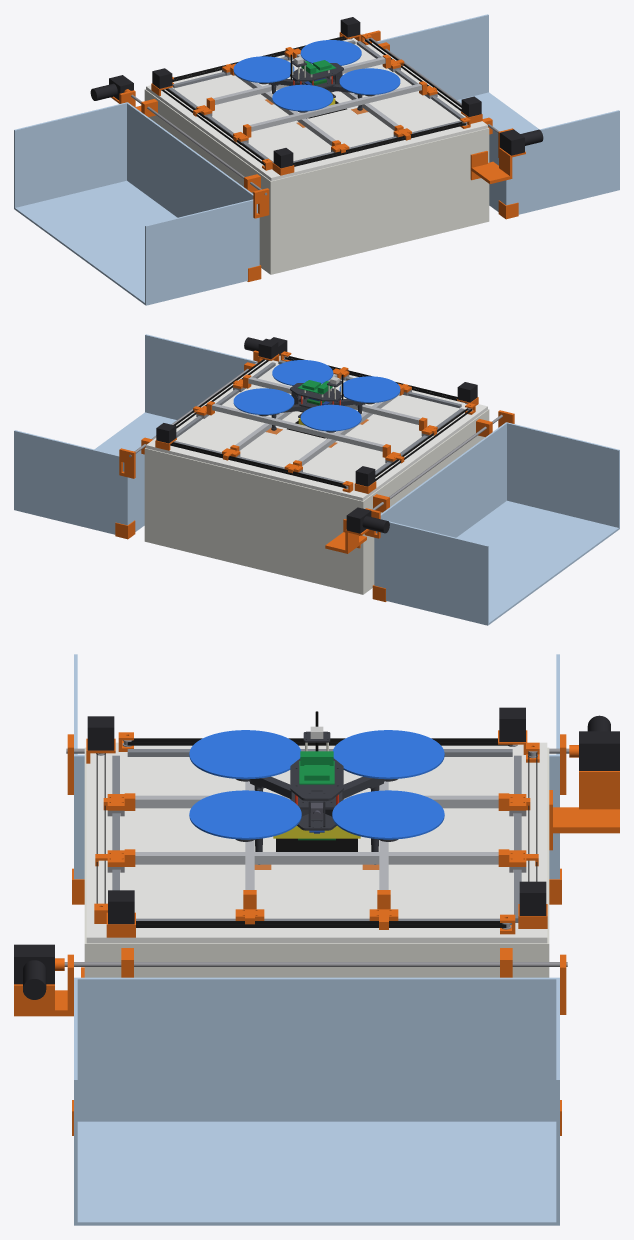
The model's file is dock_centering_with_drone.glb.
The picture shows the model from 3 angles, top to bottom: view 1: azimuth 30°, elevation 25°; view 2: azimuth 150°, elevation 25°; view 3: azimuth 270°, elevation 25°; orthographic projection. The views are drawn at different scales.
Parts seen in each view (by area): view 1: dockCOVER_L, dock_panels, dockCOVER_R, dock_deck, REF_prop_3, REF_prop_4, REF_prop_2, dock_bar_y-1, REF_prop_1, dock_motor_bracket_R, dock_bar_y+1, dockREF_cover_motor_R (+9 smaller); view 2: dockCOVER_L, dock_panels, dockCOVER_R, dock_deck, REF_prop_2, REF_prop_1, REF_prop_3, dock_bar_y+1, REF_prop_4, dock_bar_y-1, dockREF_cover_motor_L, dock_motor_bracket_L (+8 smaller); view 3: dockCOVER_R, dock_deck, dock_panels, dock_bar_x+1, REF_prop_1, REF_prop_4, REF_prop_2, REF_prop_3, dock_motor_bracket_L, dockCOVER_L, dock_shaft_R, dockREF_cover_motor_R (+16 smaller).
Boxes of the visible parts, x1,y1,x2,y2 form: dockCOVER_L: (14, 102, 259, 305); dock_panels: (144, 89, 489, 274); dockCOVER_R: (377, 14, 619, 214); dock_deck: (146, 33, 487, 180); REF_prop_3: (272, 84, 333, 111); REF_prop_4: (339, 68, 400, 94); REF_prop_2: (233, 56, 294, 82); dock_bar_y-1: (249, 83, 421, 131); REF_prop_1: (300, 40, 361, 65); dock_motor_bracket_R: (470, 147, 525, 183); dock_bar_y+1: (213, 57, 385, 104); dockREF_cover_motor_R: (500, 129, 543, 155); dockCOVER_L: (374, 422, 619, 625); dock_panels: (144, 409, 489, 594); dockCOVER_R: (14, 334, 256, 534); dock_deck: (146, 355, 487, 500); REF_prop_2: (300, 404, 361, 431); REF_prop_1: (233, 388, 294, 414); REF_prop_3: (339, 376, 400, 402); dock_bar_y+1: (212, 403, 384, 451); REF_prop_4: (272, 360, 333, 385); dock_bar_y-1: (248, 377, 420, 424); dockREF_cover_motor_L: (346, 507, 389, 533); dock_motor_bracket_L: (325, 519, 369, 553); dockCOVER_R: (74, 977, 559, 1225); dock_deck: (86, 742, 547, 943); dock_panels: (84, 747, 549, 977); dock_bar_x+1: (135, 852, 498, 864); REF_prop_1: (332, 790, 444, 839); REF_prop_4: (189, 790, 301, 839); REF_prop_2: (333, 730, 444, 779); REF_prop_3: (189, 730, 300, 779); dock_motor_bracket_L: (549, 771, 619, 850); dockCOVER_L: (74, 654, 559, 879); dock_shaft_R: (64, 962, 567, 966); dockREF_cover_motor_R: (14, 944, 54, 999).
Bounding box in the file's own units: 1596 × 494 × 960.
